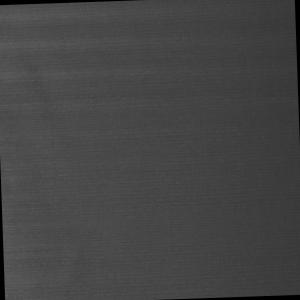Wrinkle: (1, 1, 299, 117)
